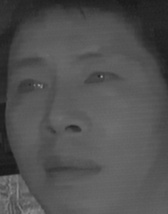eye: (81, 67, 123, 92), (14, 77, 49, 99)
mouth: (43, 150, 101, 186)
